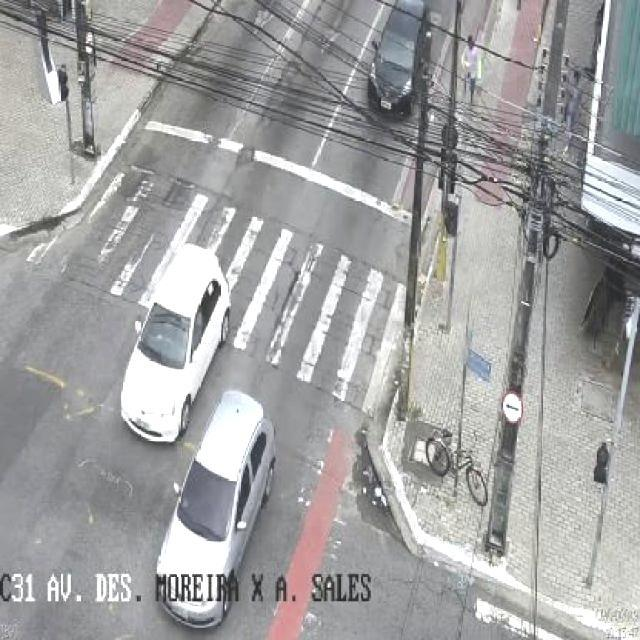Car: (156, 389, 274, 631), (120, 242, 232, 442), (366, 0, 432, 119)
Cycle: (424, 426, 488, 506)
